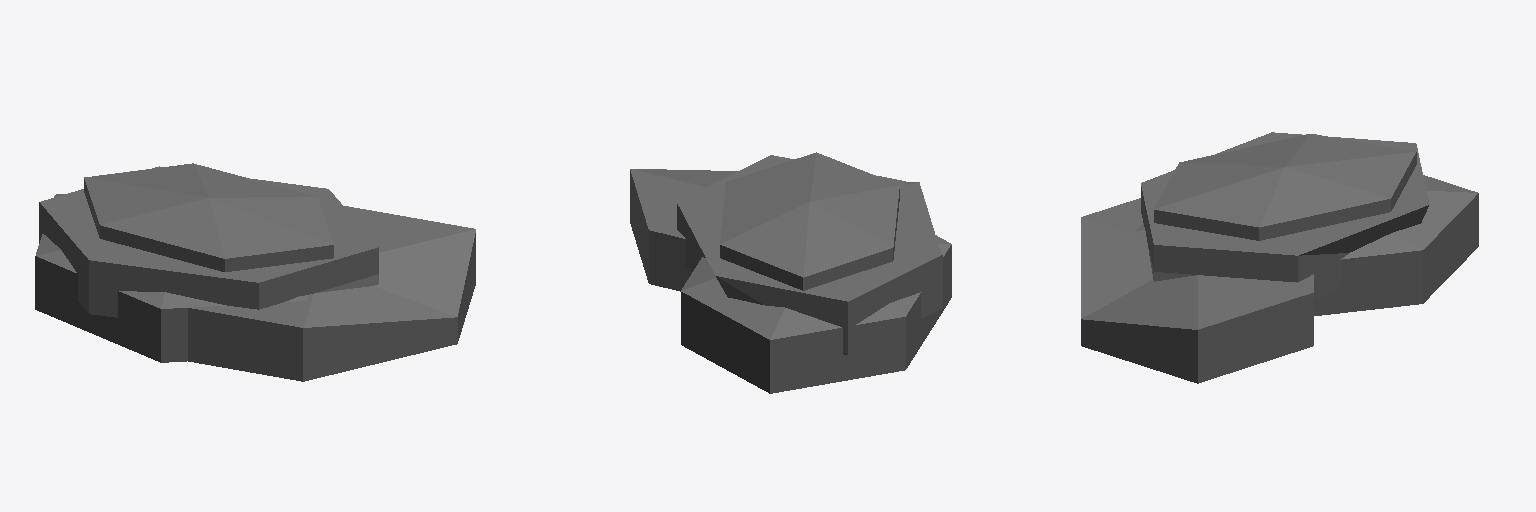
3 views of the same model, side by side, from view 1: azimuth 30°, elevation 25°; view 2: azimuth 150°, elevation 25°; view 3: azimuth 270°, elevation 25° (orthographic).
Visible parts, largest first — view 1: sphere; view 2: sphere; view 3: sphere.
Part boxes in pixels (x1,y1,x2,y2): sphere: (35,163,475,381); sphere: (630,152,951,393); sphere: (1081,132,1478,383).
Bounding box in the file's own units: 0.8718 × 0.3125 × 0.8381.
1 materials, 1 textured.